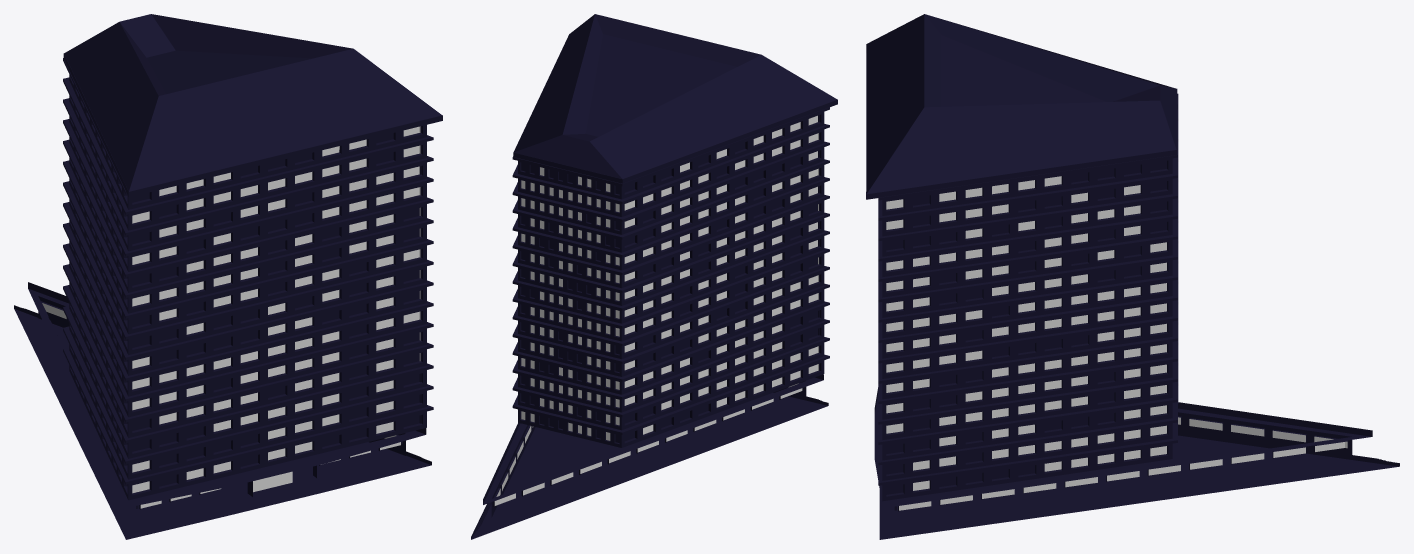
The model's file is Triangle.fbx.
The picture shows the model from 3 angles, left to right: view 1: azimuth 30°, elevation 25°; view 2: azimuth 150°, elevation 25°; view 3: azimuth 270°, elevation 25°; orthographic projection. The views are drawn at different scales.
Parts seen in each view (by area): view 1: Plane.003, TriangleRoof.002, TriangleBase, Plane.003_cell.004, Plane.003_cell.012, Plane.003_cell.011, Plane.003_cell.032, Plane.003_cell.002, Plane.003_cell.031, Plane.003_cell.019, Plane.003_cell.014, Plane.003_cell (+8 smaller); view 2: Plane.003, TriangleRoof.002, TriangleBase, Plane.003_cell.031, Plane.003_cell.022, Plane.003_cell.033, Plane.003_cell.023, Plane.003_cell.027, Plane.003_cell.018, Plane.003_cell.003, Plane.003_cell.017, Plane.003_cell.025 (+5 smaller); view 3: Plane.003, TriangleRoof.002, TriangleBase, Plane.003_cell.002, Plane.003_cell.009, Plane.003_cell.019, Plane.003_cell.006, Plane.003_cell.003, Plane.003_cell.034, Plane.003_cell.026, Plane.003_cell.016, Plane.003_cell.036.
Boxes of the visible parts, <box> form: Plane.003: <box>63,58,433,499</box>; TriangleRoof.002: <box>63,14,442,197</box>; TriangleBase: <box>14,282,431,539</box>; Plane.003_cell.004: <box>151,151,316,332</box>; Plane.003_cell.012: <box>156,259,361,410</box>; Plane.003_cell.011: <box>295,145,433,316</box>; Plane.003_cell.032: <box>124,335,202,499</box>; Plane.003_cell.002: <box>360,258,433,415</box>; Plane.003_cell.031: <box>98,142,209,284</box>; Plane.003_cell.019: <box>342,125,433,242</box>; Plane.003_cell.014: <box>265,325,377,456</box>; Plane.003_cell: <box>107,325,266,484</box>; Plane.003: <box>512,107,829,447</box>; TriangleRoof.002: <box>513,14,837,183</box>; TriangleBase: <box>471,374,828,539</box>; Plane.003_cell.031: <box>725,107,829,212</box>; Plane.003_cell.022: <box>641,206,731,317</box>; Plane.003_cell.033: <box>554,201,675,300</box>; Plane.003_cell.023: <box>590,329,674,399</box>; Plane.003_cell.027: <box>676,151,726,214</box>; Plane.003_cell.018: <box>519,251,600,371</box>; Plane.003_cell.003: <box>513,156,592,238</box>; Plane.003_cell.017: <box>588,163,702,237</box>; Plane.003_cell.025: <box>558,249,649,347</box>; Plane.003: <box>878,119,1178,496</box>; TriangleRoof.002: <box>866,14,1177,199</box>; TriangleBase: <box>874,387,1399,539</box>; Plane.003_cell.002: <box>878,333,968,489</box>; Plane.003_cell.009: <box>1072,323,1177,444</box>; Plane.003_cell.019: <box>878,183,993,330</box>; Plane.003_cell.006: <box>965,380,1099,468</box>; Plane.003_cell.003: <box>1061,110,1178,246</box>; Plane.003_cell.034: <box>1095,379,1178,469</box>; Plane.003_cell.026: <box>954,180,1090,319</box>; Plane.003_cell.016: <box>882,478,946,501</box>; Plane.003_cell.036: <box>929,309,1061,402</box>.
Bounding box in the file's own units: 616 × 776 × 923.
